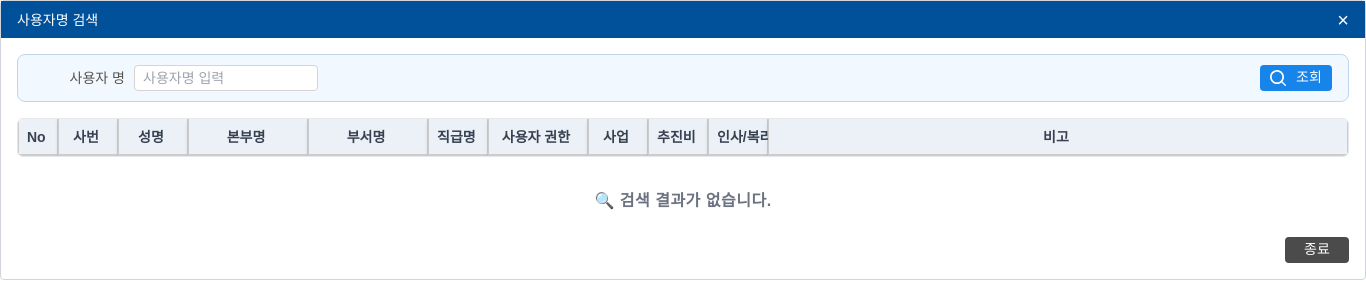
Test: COMZ100P00 - 사용자명 검색 모달 › 데이터 표시 테스트 › 검색 결과가 정상적으로 표시된다
In the field with placeholder "사용자명 입력": (226, 78) [134,65,318,91], type "홍길동"
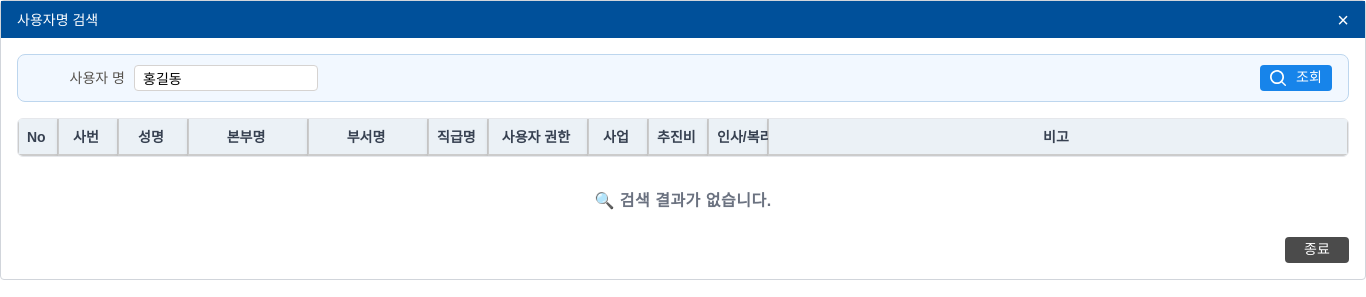
Click the button "조회": click(1296, 78) [1260,65,1332,91]
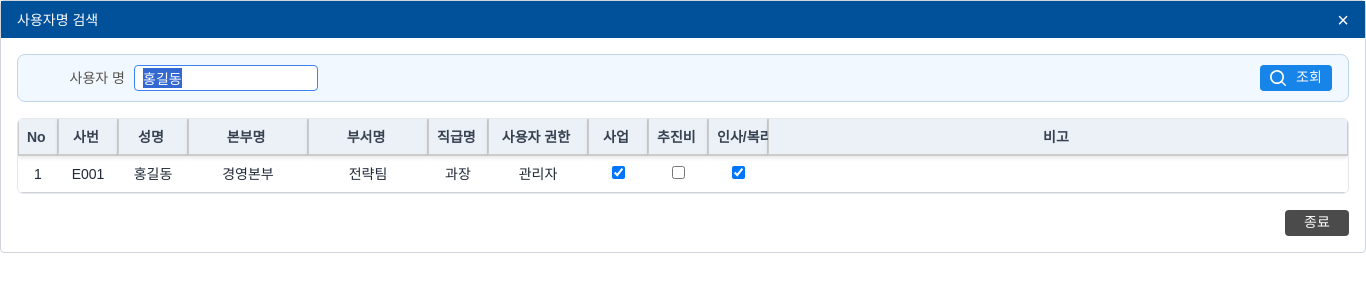
Expected: the text "1" is shown, [18,156,58,193]
Expected: the text "E001" is shown, [58,156,118,193]
Expected: the text "홍길동" is shown, [118,156,188,193]
